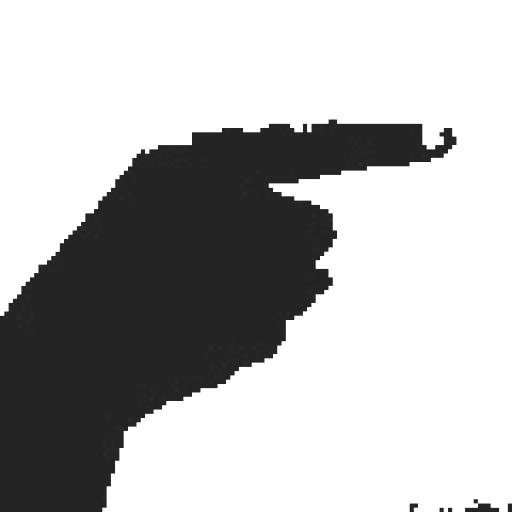index_left: (0, 118, 458, 363)
